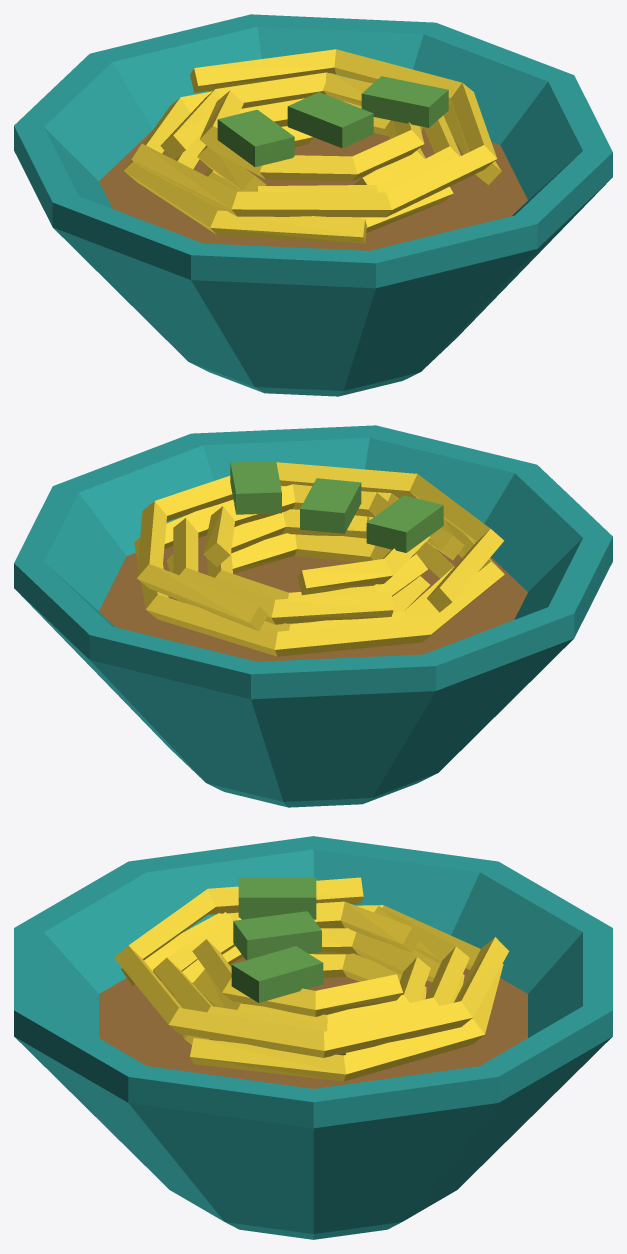
Rendered from noodles.glb.
The picture shows the model from 3 angles, top to bottom: view 1: azimuth 30°, elevation 25°; view 2: azimuth 150°, elevation 25°; view 3: azimuth 270°, elevation 25°; orthographic projection. The views are drawn at different scales.
Parts seen in each view (by area): view 1: noodles; view 2: noodles; view 3: noodles.
Boxes of the visible parts, x1,y1,x2,y2 form: noodles: (14, 14, 612, 396); noodles: (14, 425, 612, 807); noodles: (14, 836, 612, 1239).
Bounding box in the file's own units: 0.21 × 0.096 × 0.1997.
